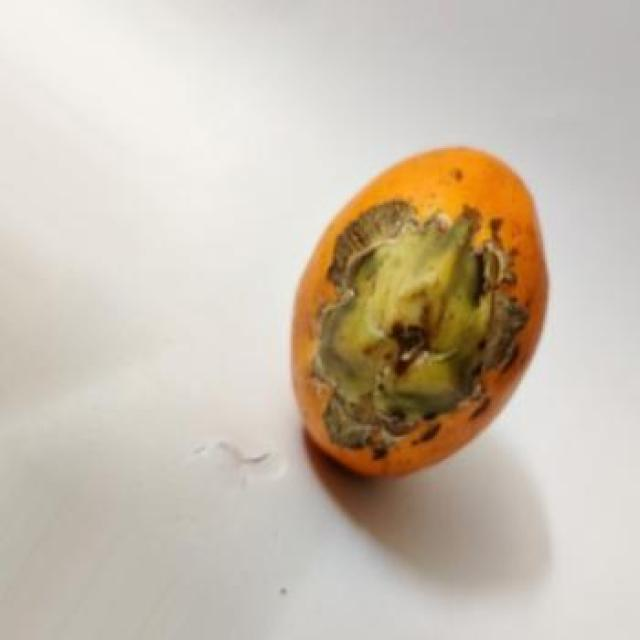good: (289, 148, 550, 481)
